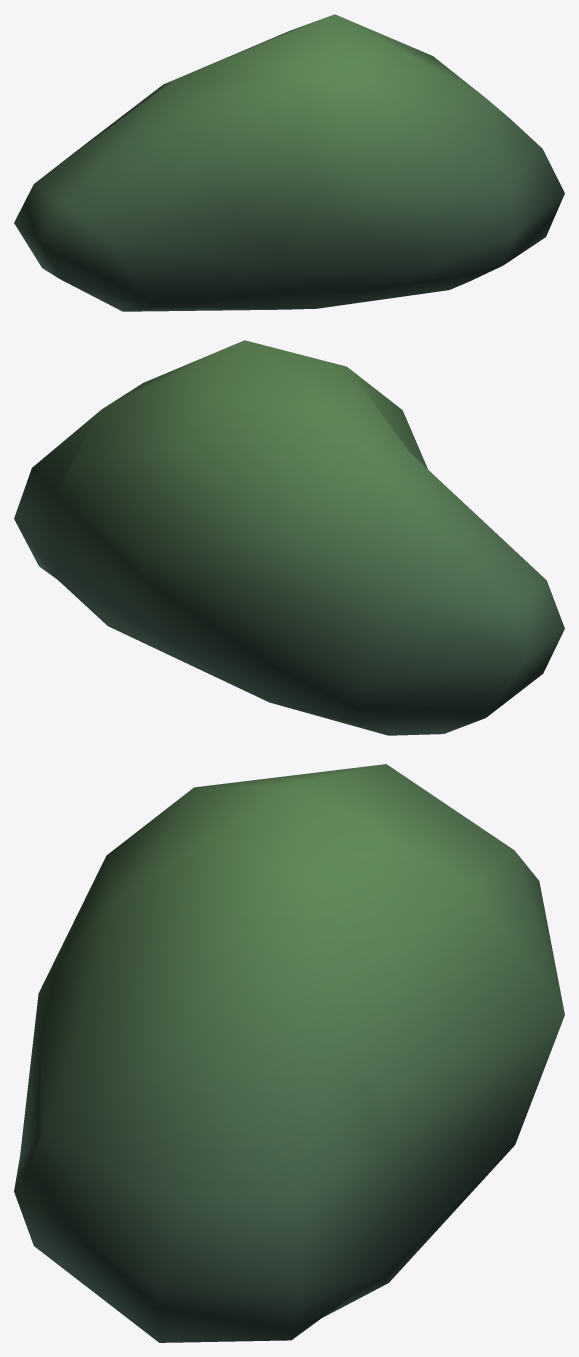
Rendered from Bush_lvl2_02.fbx.
The picture shows the model from 3 angles, top to bottom: view 1: azimuth 30°, elevation 25°; view 2: azimuth 150°, elevation 25°; view 3: azimuth 270°, elevation 25°; orthographic projection. The views are drawn at different scales.
Visible parts, largest first — view 1: Bush_2; view 2: Bush_2; view 3: Bush_2.
Part boxes in pixels (box(x1,y1,x2,y2)): Bush_2: box(14, 14, 564, 311); Bush_2: box(14, 340, 564, 735); Bush_2: box(14, 764, 564, 1342).
Size of the model in its own units: 1.92 by 1.01 by 1.11.
